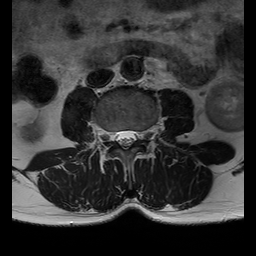CCS_normal: (121, 120, 129, 157)
LFS_normal: (138, 121, 146, 148)
LLS_normal: (129, 122, 138, 152)
RFS_normal: (105, 122, 113, 148)
RLS_normal: (113, 123, 121, 151)
